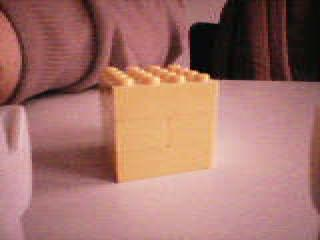legocube: (92, 63, 221, 186)
